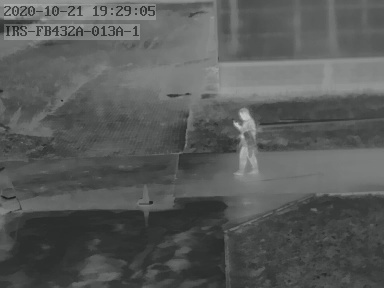person: (233, 108, 259, 177)
